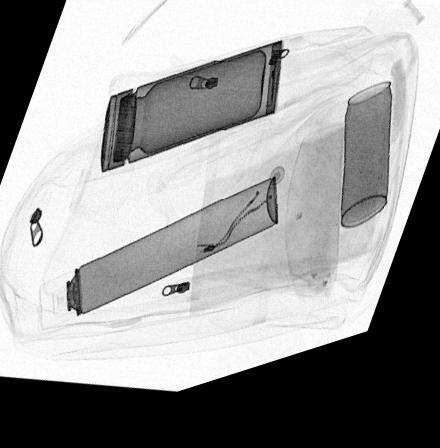Sprayer: (36, 190, 277, 334)
